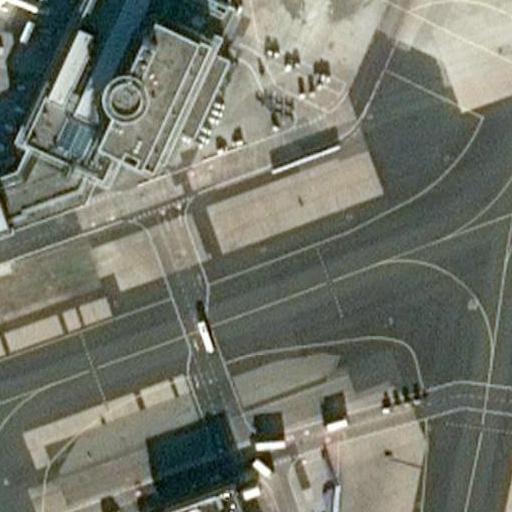Aircraft: (0, 0, 48, 35)
